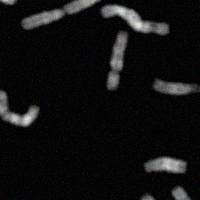chromosome: (21, 0, 120, 32), (101, 5, 170, 36), (0, 89, 40, 126), (108, 31, 127, 90), (155, 77, 200, 101), (143, 155, 188, 176), (141, 190, 193, 200), (171, 187, 200, 200), (0, 156, 5, 200), (0, 0, 20, 6)
